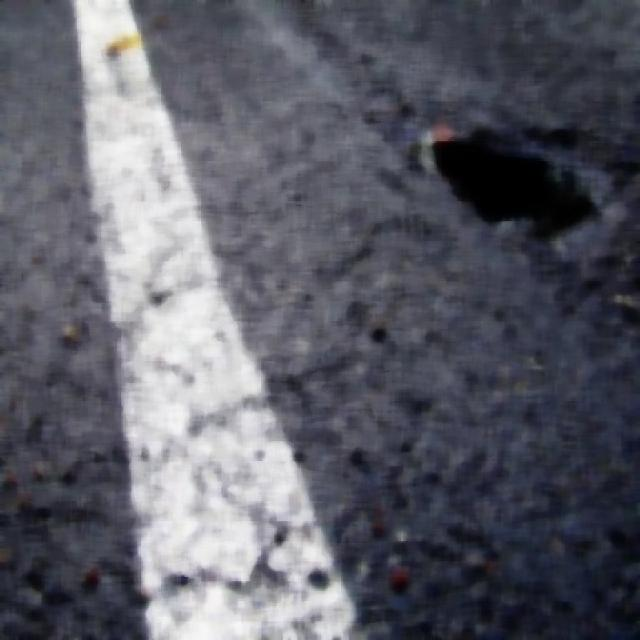Pothole: (420, 126, 638, 246)
